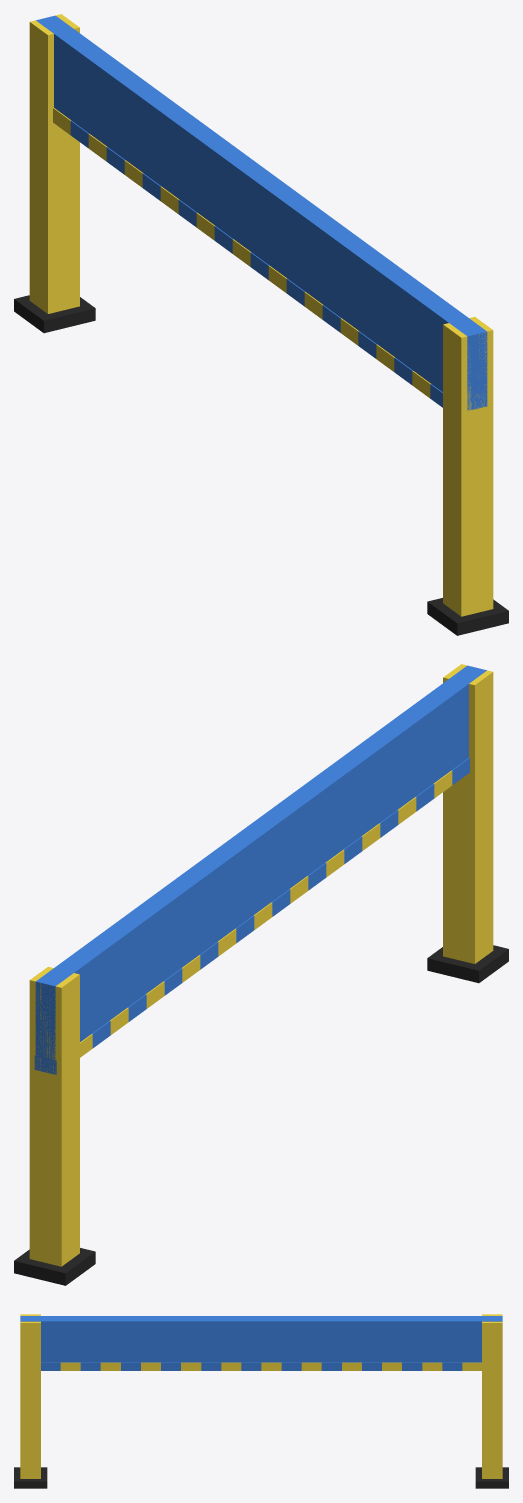
Rendered from gate_checkpoint.glb.
The picture shows the model from 3 angles, top to bottom: view 1: azimuth 30°, elevation 25°; view 2: azimuth 150°, elevation 25°; view 3: azimuth 270°, elevation 25°; orthographic projection. The views are drawn at different scales.
Visible parts, largest first — view 1: SM_CheckpointGate; view 2: SM_CheckpointGate; view 3: SM_CheckpointGate.
Part boxes in pixels (box(x1,y1,x2,y2)): SM_CheckpointGate: box(14, 14, 508, 635); SM_CheckpointGate: box(14, 664, 508, 1285); SM_CheckpointGate: box(14, 1314, 508, 1488).
Bounding box in the file's own units: 1.3 × 7 × 19.3.
